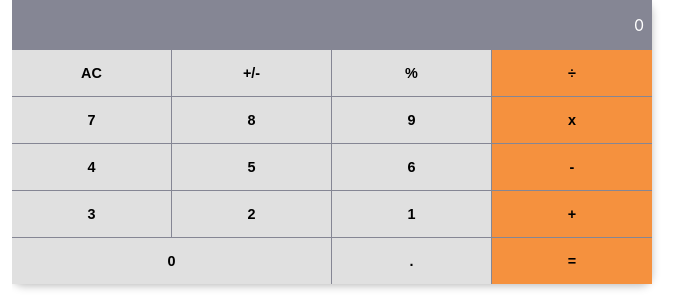
Test: Testing Calculator component with snapshot › test addition logic inside the Calculator component
This screenshot has width=673, height=307.
Click the button "1" at point(412, 214), box [332,191,492,238]
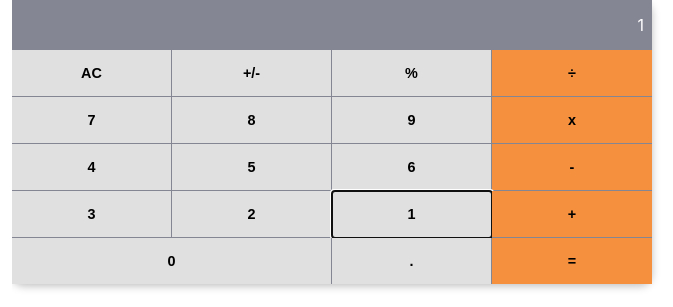
Click the button "+" at point(572, 214), box [492,191,652,238]
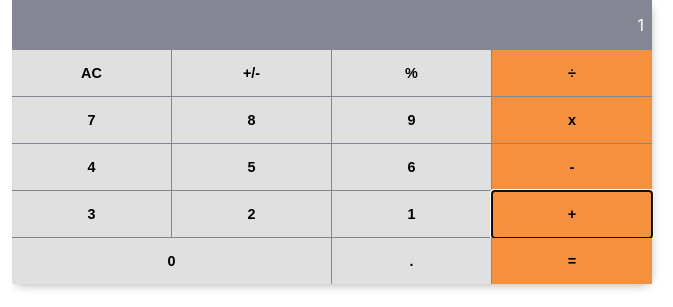
Click the button "2" at point(252, 214), box [172,191,332,238]
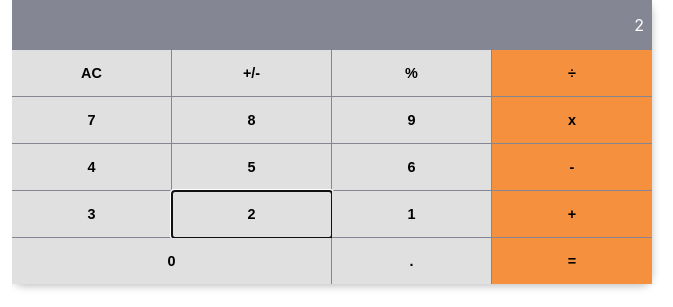
Click the button "=" at point(572, 261), box [492,238,652,284]
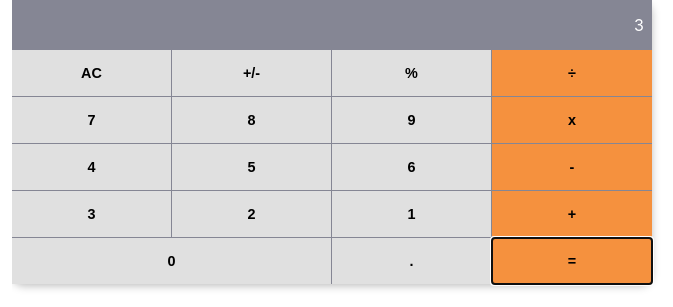
Result: the text with test id "total_value" reads "3" at [634,15,644,35]
